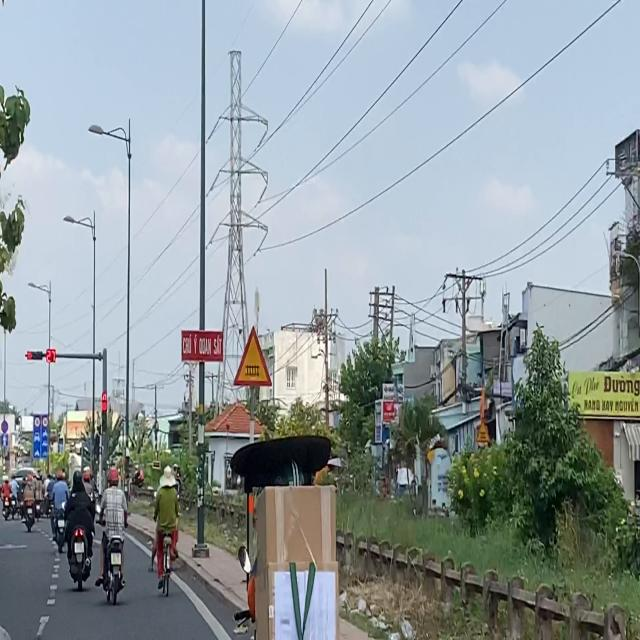Nguy hiem: (233, 324, 273, 388)
